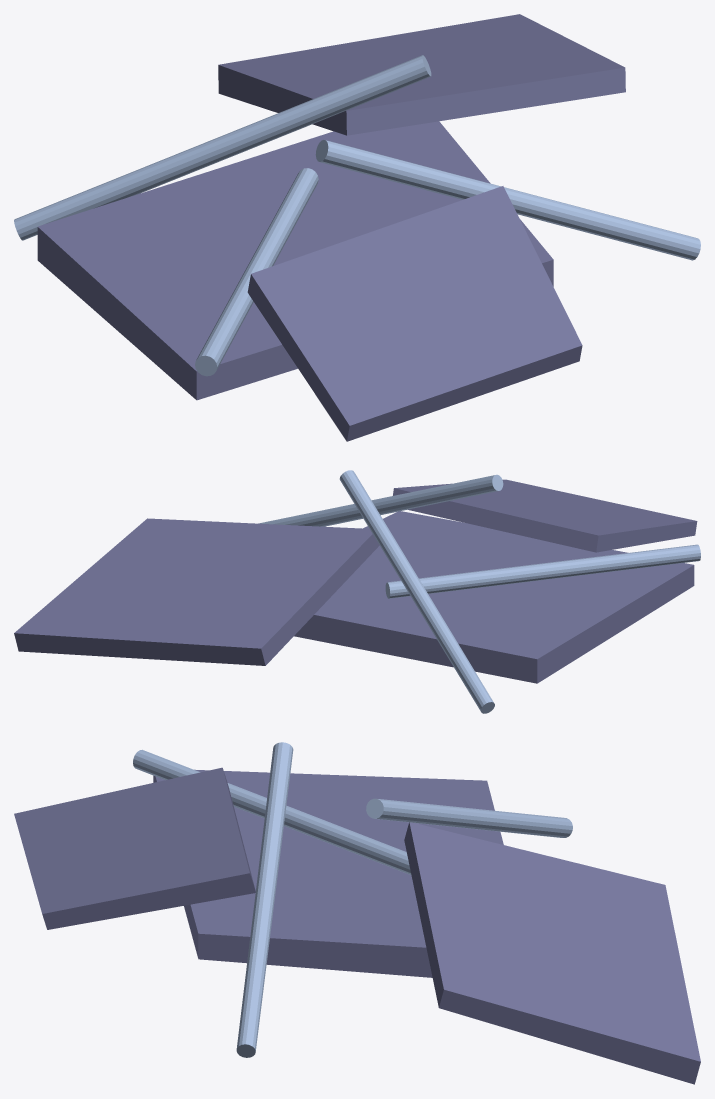
File: Materiales1.fbx
The picture shows the model from 3 angles, top to bottom: view 1: azimuth 30°, elevation 25°; view 2: azimuth 150°, elevation 25°; view 3: azimuth 270°, elevation 25°; orthographic projection. The views are drawn at different scales.
Visible parts, largest first — view 1: Ala.002, TubosTecho.002; view 2: Ala.002, TubosTecho.002; view 3: Ala.002, TubosTecho.002.
Boxes of the visible parts, box(x1,y1,x2,y2) form: Ala.002: box(37, 14, 625, 441); TubosTecho.002: box(14, 55, 700, 376); Ala.002: box(14, 479, 697, 683); TubosTecho.002: box(258, 470, 700, 713); Ala.002: box(14, 767, 700, 1084); TubosTecho.002: box(133, 742, 572, 1057).
Bounding box in the file's own units: 451 × 133 × 474.
